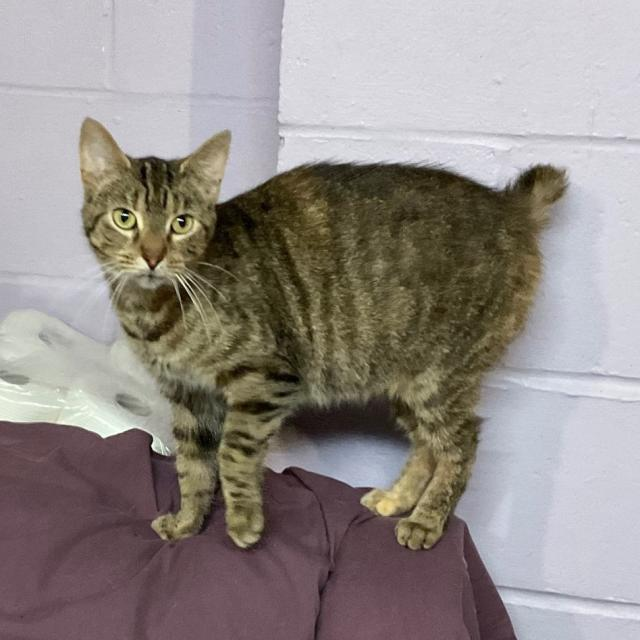American Bobtail: (74, 108, 575, 556)
